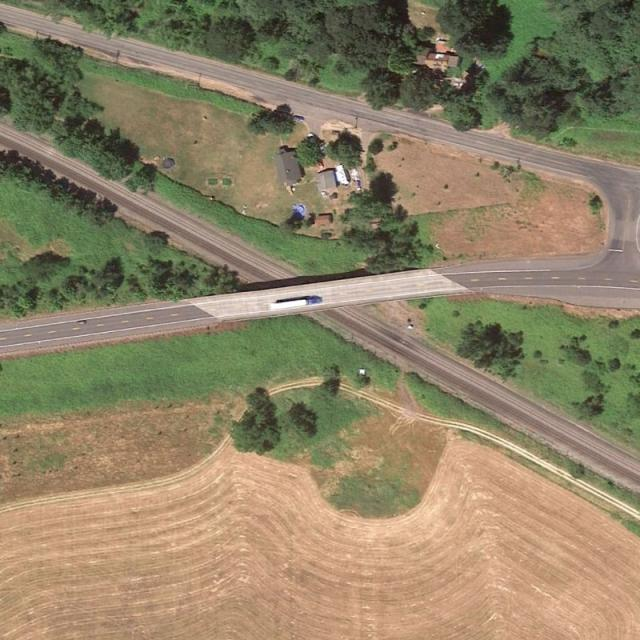vehicle: (270, 297, 321, 310), (294, 116, 304, 122), (77, 322, 86, 325)
